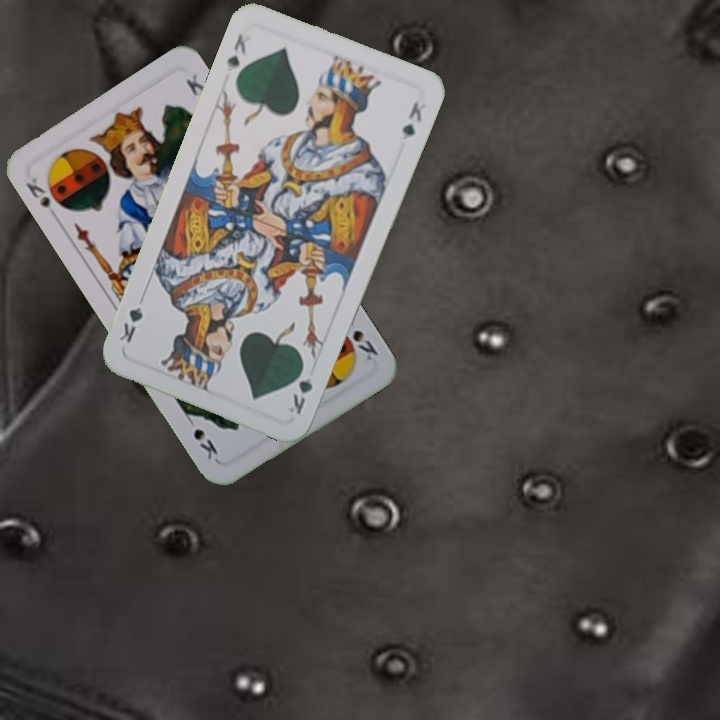GK: (284, 360, 315, 418), (222, 29, 250, 70)
SK: (21, 173, 69, 224), (348, 325, 381, 364)
